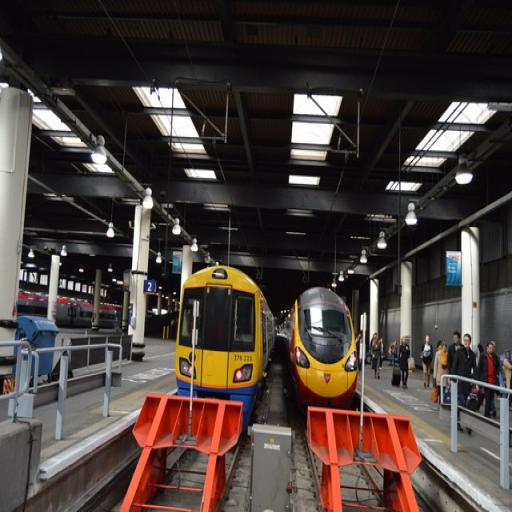platform_edge: (361, 384, 447, 442), (92, 380, 178, 429), (34, 432, 103, 490)
